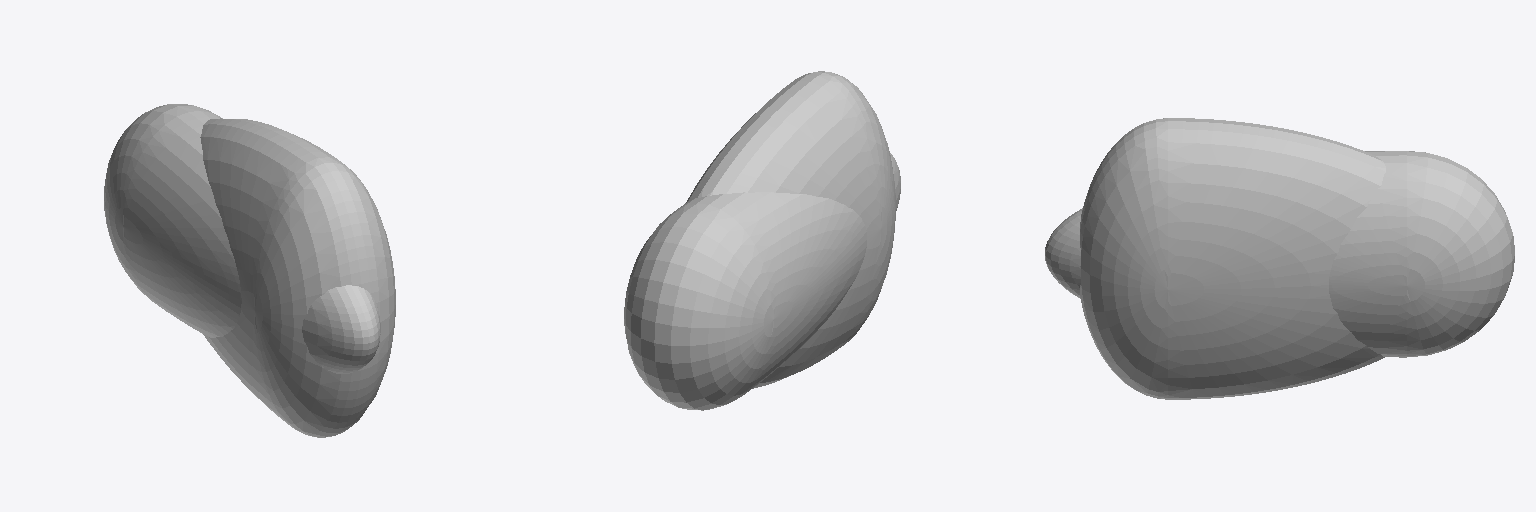
File: BODY4.obj
3 renders of one model, left to right at view 1: azimuth 30°, elevation 25°; view 2: azimuth 150°, elevation 25°; view 3: azimuth 270°, elevation 25°, orthographic.
Size of the model in its own units: 0.1856 by 0.3533 by 0.5476.